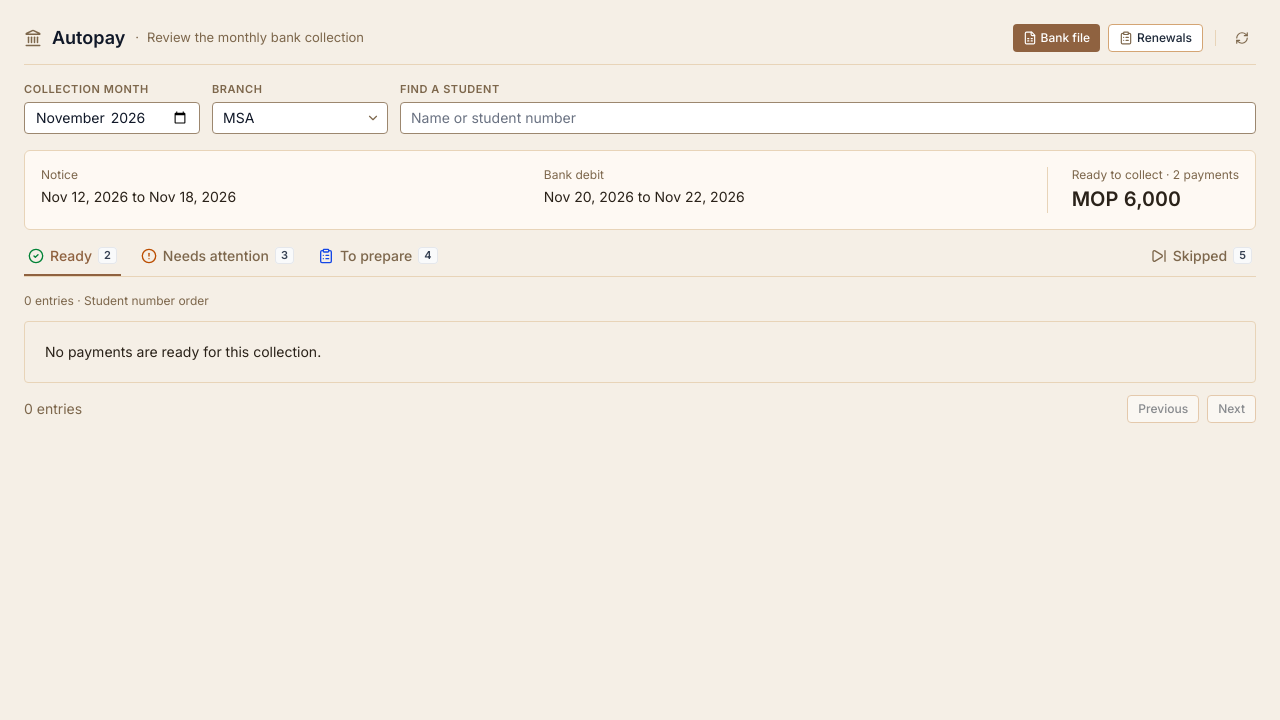
autopay collection review › shows paid and manual-first skips with direct reasons and paid amount context
Click the tab "Skipped 5" at (1201, 260), box [1147,246,1256,276]
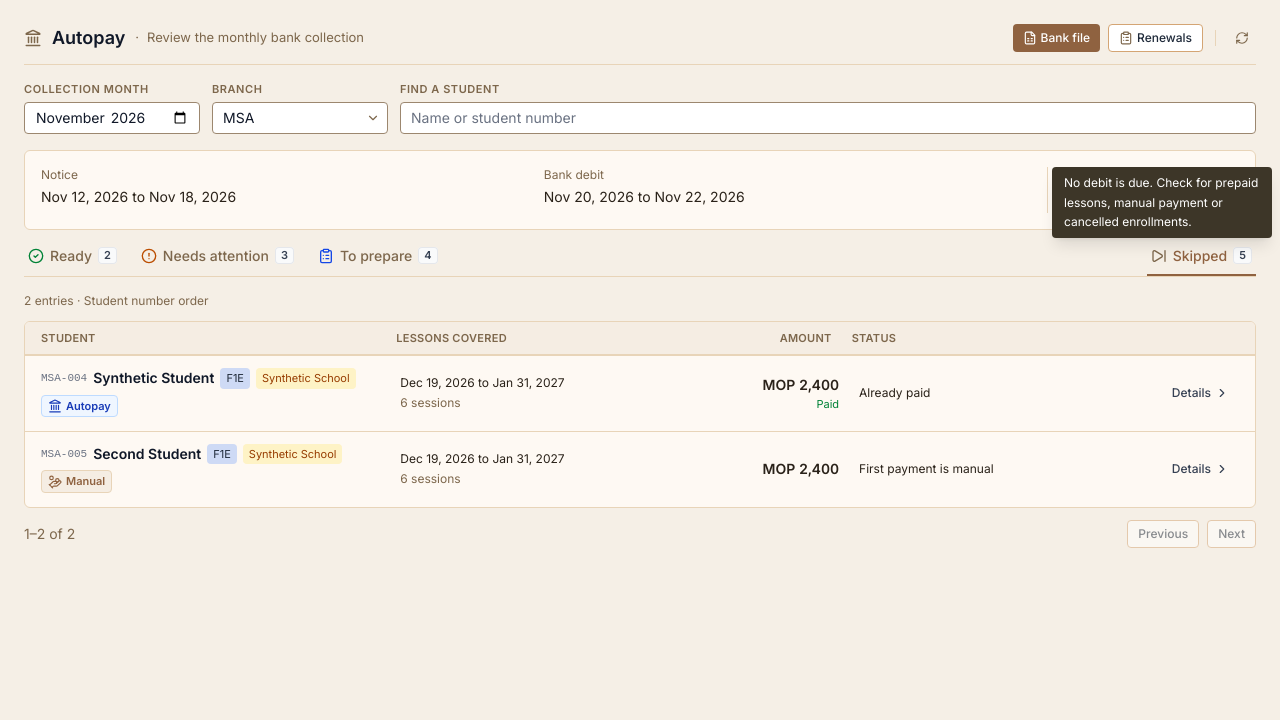
Expected: the text "Already paid" is shown, [859,385,930,400]
Expected: the text "Paid" is shown, [816,396,839,410]
Expected: the text "Manual" is shown, [41,470,112,493]
